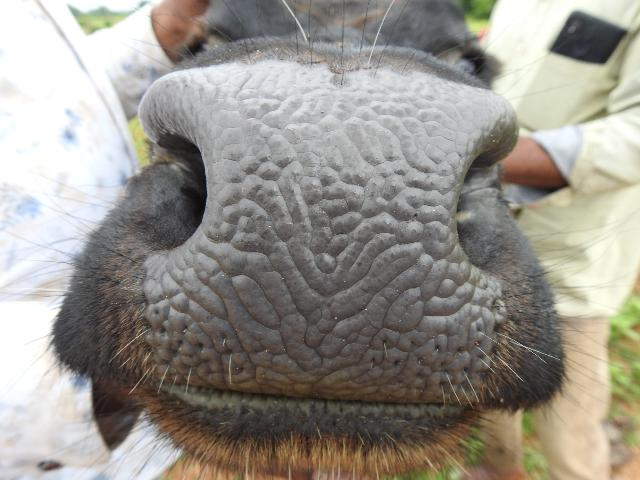Muzzle: (181, 66, 474, 400)
